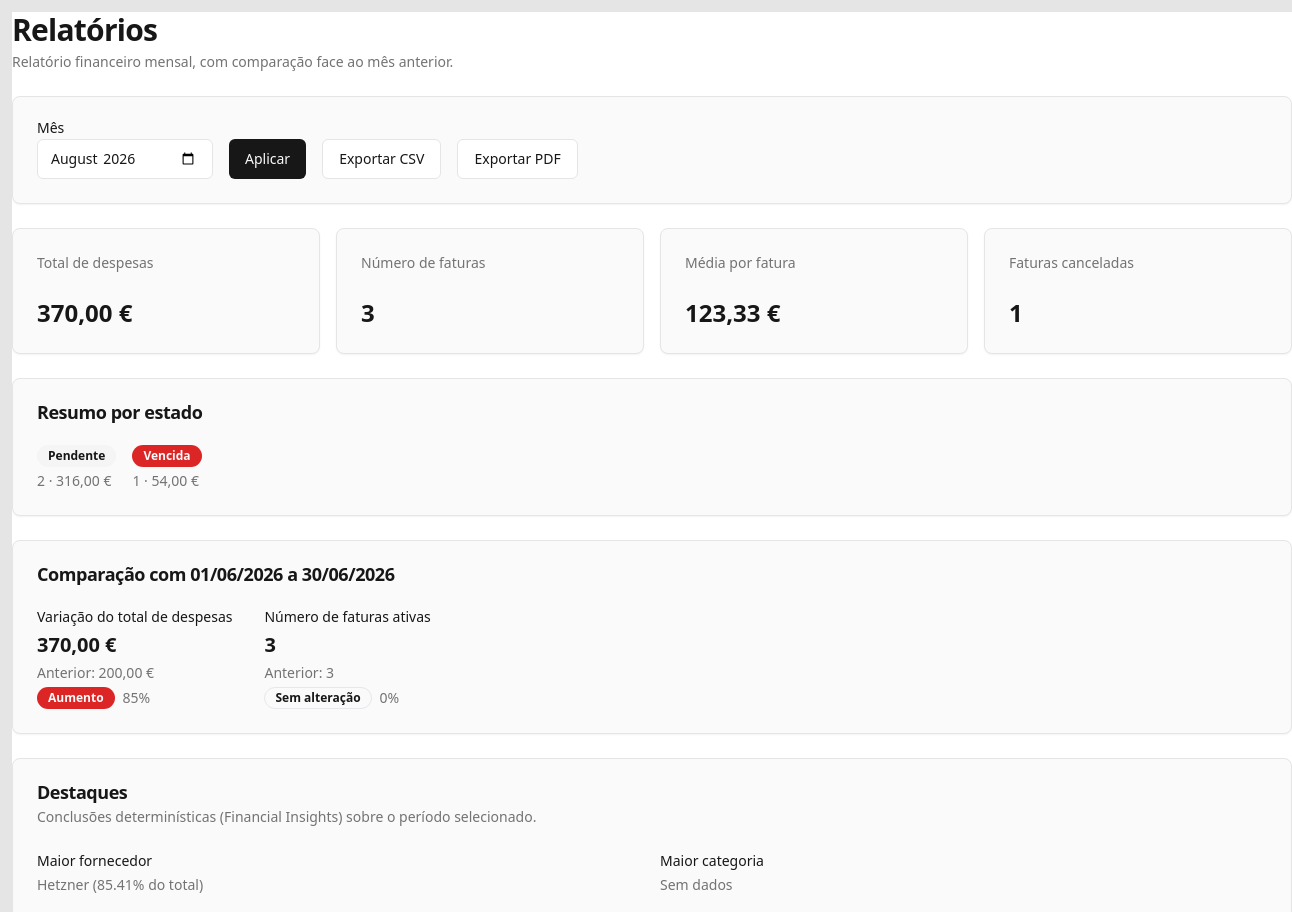
Test: ReportsPage (Fase 9) › erro de exportação mostra uma mensagem clara
Expected: the text "Total de despesas" is shown, [37, 253, 154, 272]
Click the button "Exportar CSV" at (382, 159), box [322, 139, 441, 179]
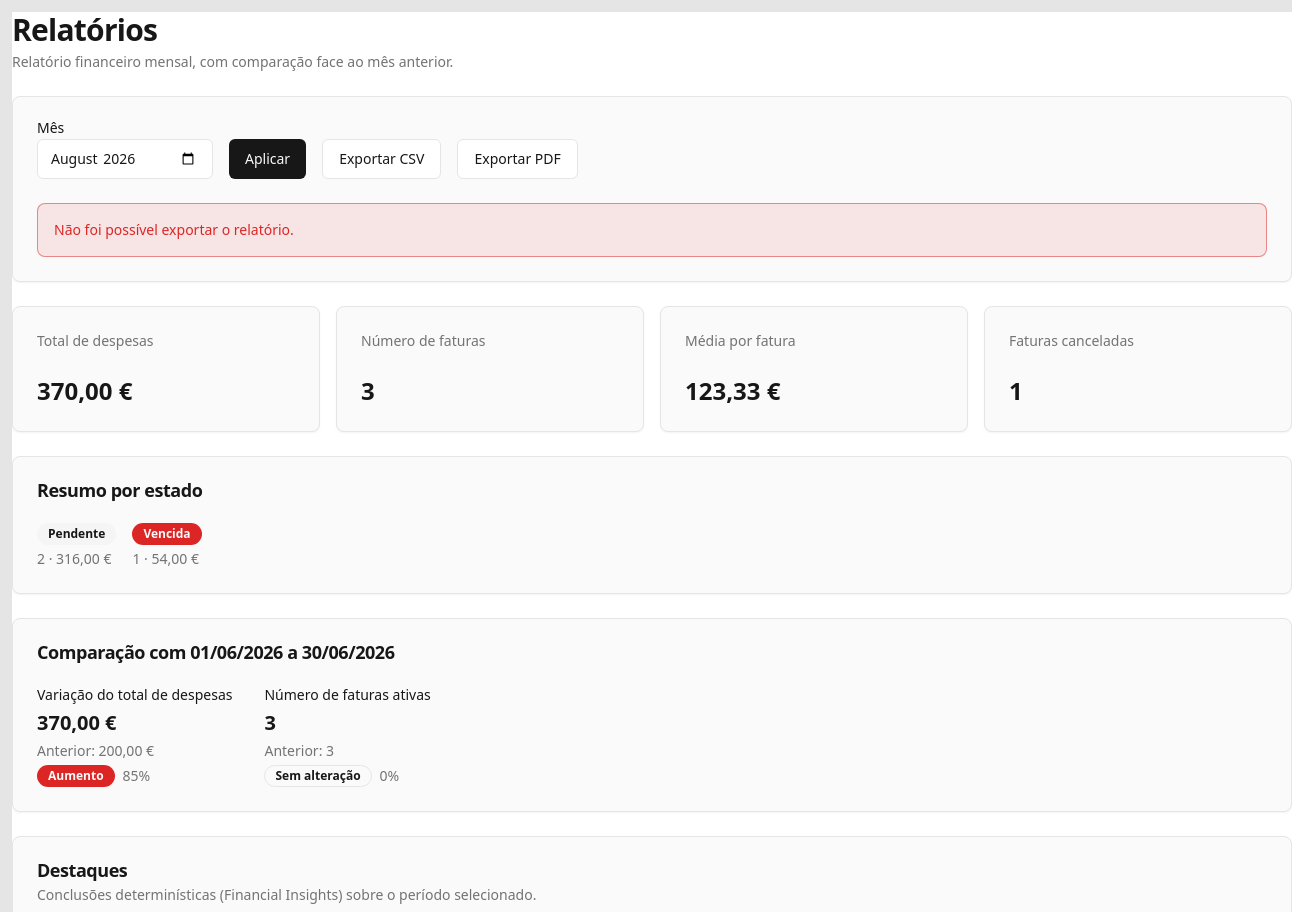
Expected: the text "Não foi possível exportar o relatório." is shown, [54, 220, 294, 239]
